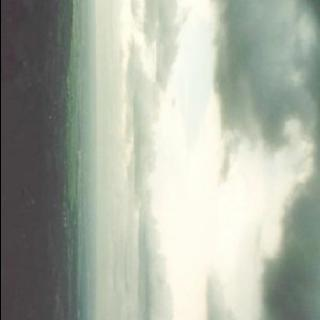Stratocumulus: (86, 0, 320, 320)
